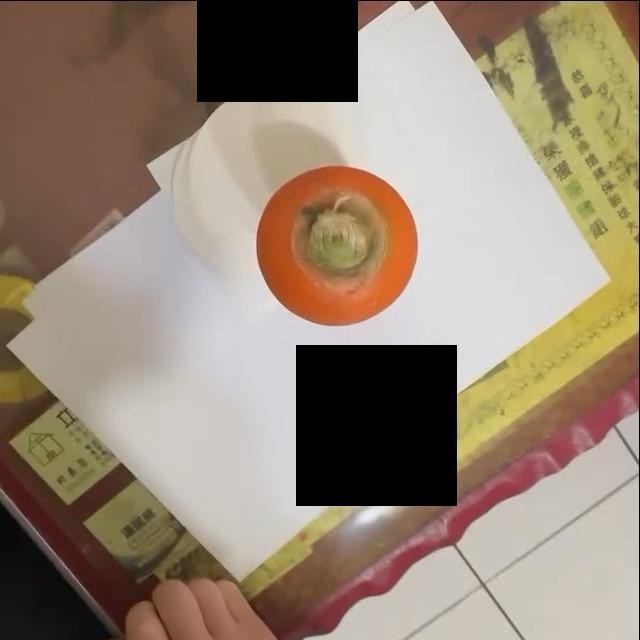carrot: (259, 160, 421, 329)
